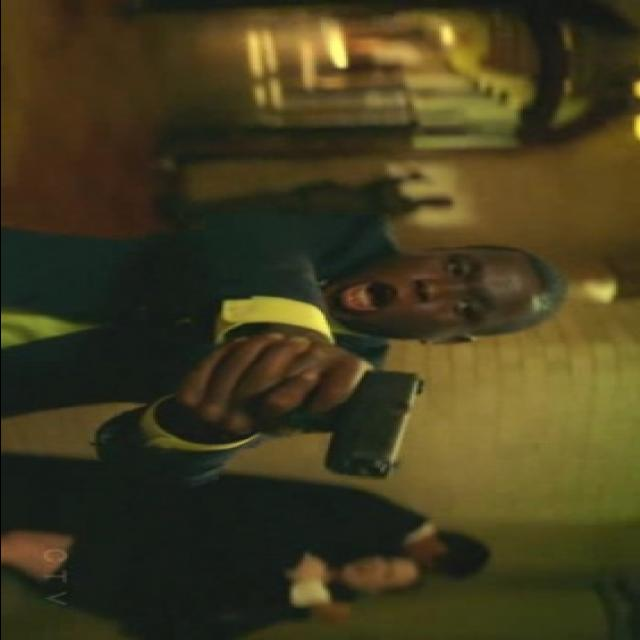weapons: (178, 356, 444, 480)
